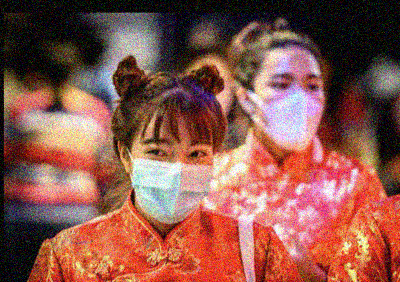with_mask: (127, 126, 212, 224), (251, 64, 327, 152)
